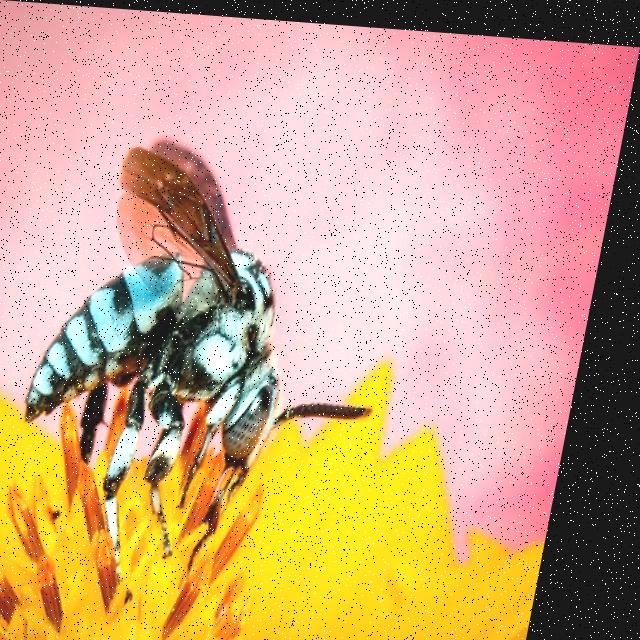Thyreus: (16, 117, 435, 552)
